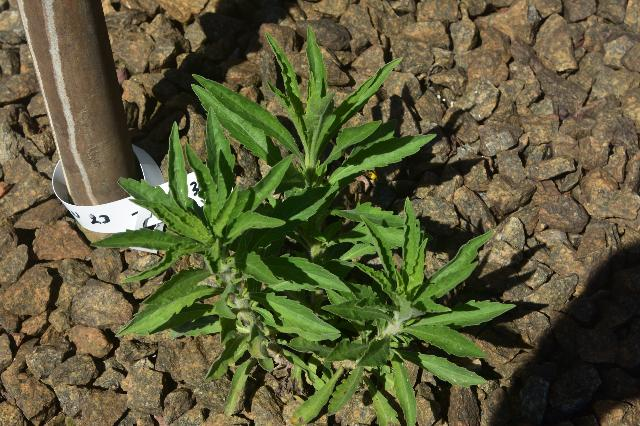MalezaMontesDelPlata: (90, 106, 345, 410), (188, 22, 441, 239), (320, 208, 530, 426)
